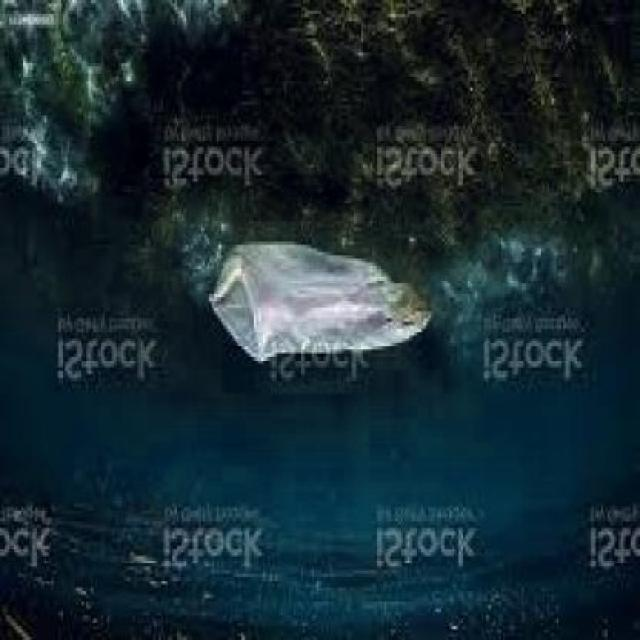pbag: (205, 242, 432, 368)
